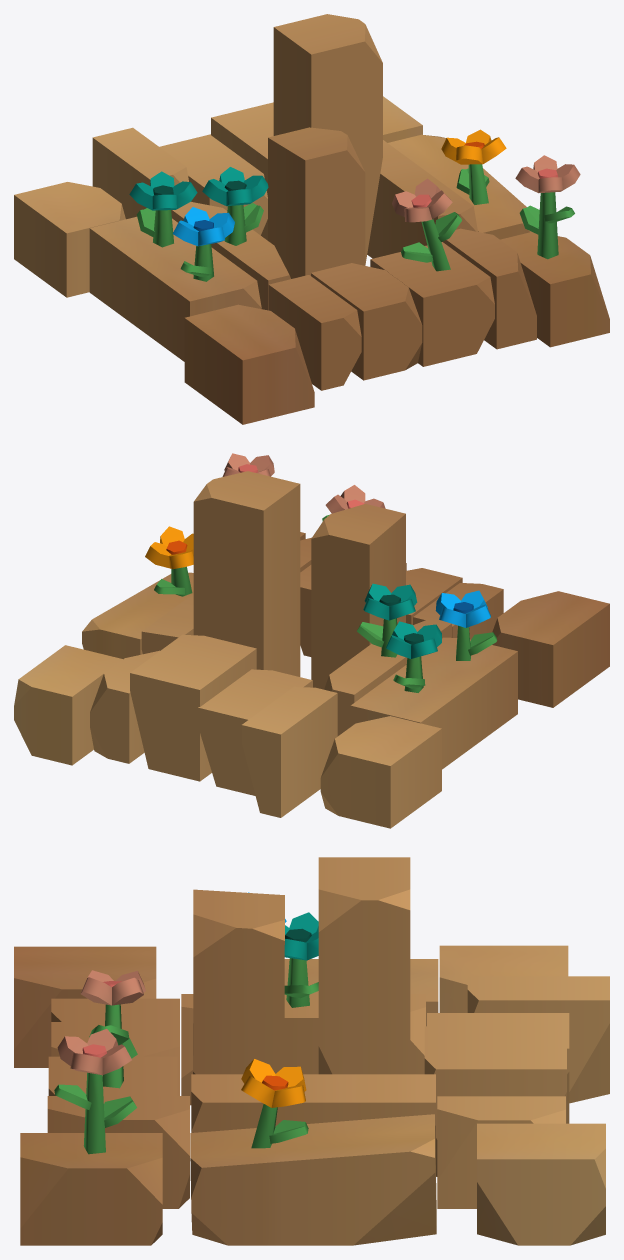
File: plant-ruin-01.glb
3 views of the same model, one above another, from view 1: azimuth 30°, elevation 25°; view 2: azimuth 150°, elevation 25°; view 3: azimuth 270°, elevation 25° (orthographic). The views are drawn at different scales.
Parts seen in each view (by area): view 1: plant ruin 01; view 2: plant ruin 01; view 3: plant ruin 01.
Part boxes in pixels (<box>): plant ruin 01: <box>14,14,609,424</box>; plant ruin 01: <box>14,453,609,828</box>; plant ruin 01: <box>14,857,609,1245</box>.
Size of the model in its own units: 1.45 by 0.8633 by 1.65.
1 material, 1 textured.
